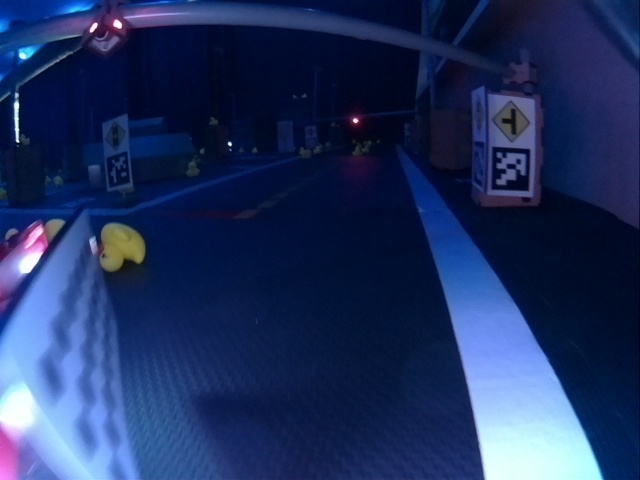Duckie: (99, 224, 144, 269), (186, 162, 199, 177), (299, 148, 310, 158), (353, 146, 361, 156)
Duckiebot: (2, 218, 135, 470)
Intersection sign: (491, 98, 532, 142)
QR code: (490, 146, 531, 194), (106, 155, 131, 188), (471, 140, 486, 191)
Signal sign: (104, 121, 129, 150), (472, 92, 487, 135)
Traffic light: (87, 6, 130, 51)
